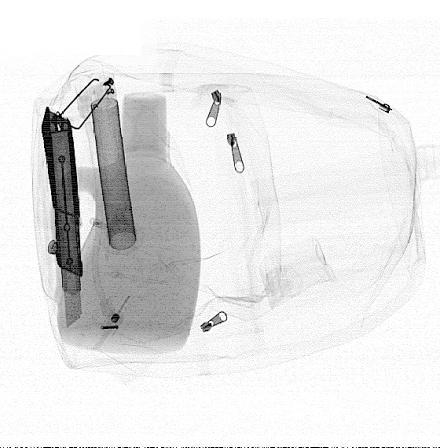Knife: (41, 105, 83, 328)
